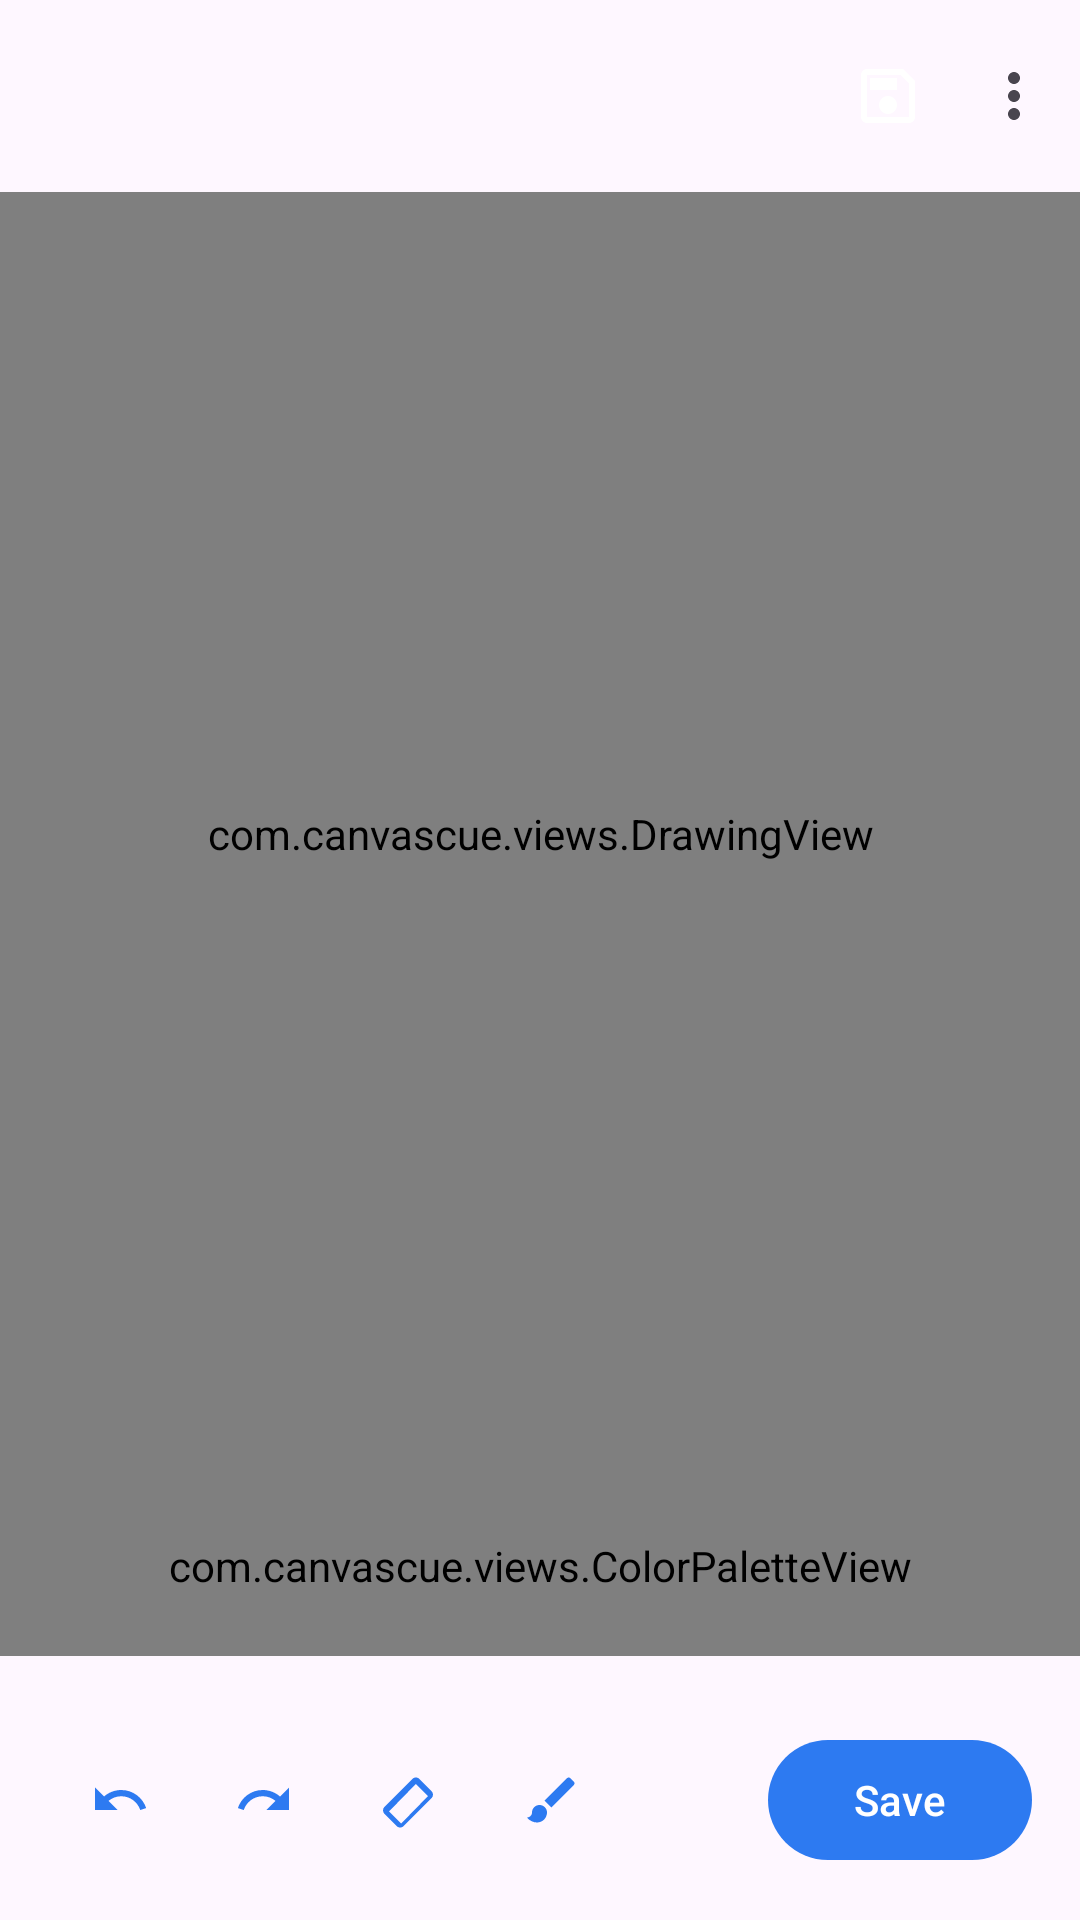

Screen size 1080×1920. Icon name, then its center in pixels as point (x, y):
brush: point (551, 1800)
eraser: point (408, 1802)
redo: point (263, 1799)
undo: point (120, 1798)
